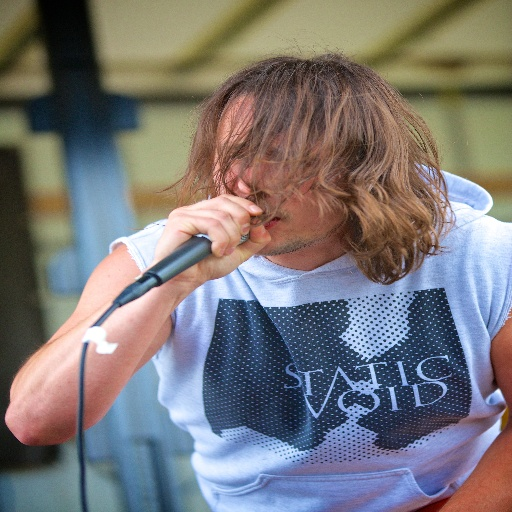hand: (160, 194, 276, 273)
